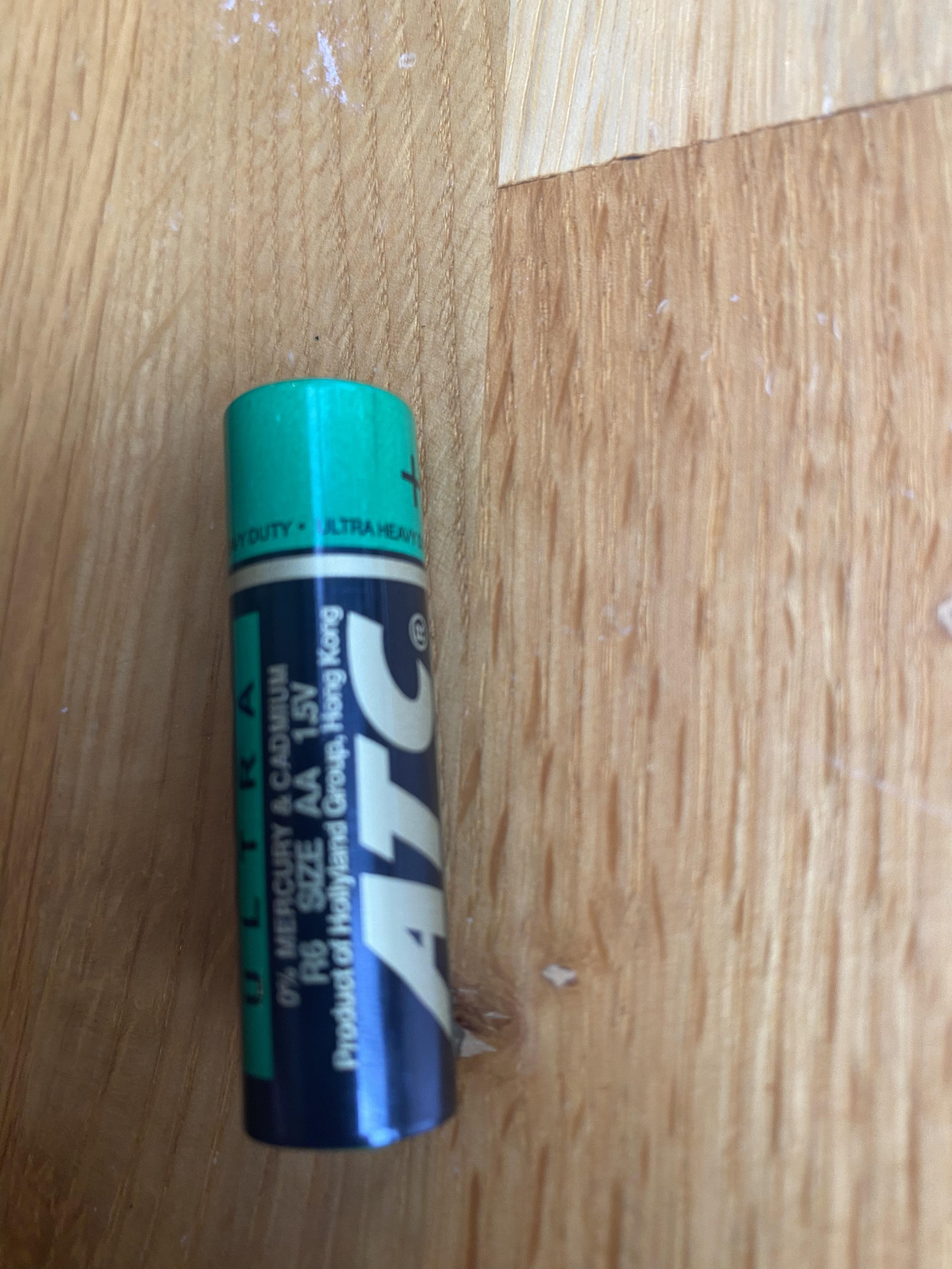AA: (222, 376, 460, 1150)
